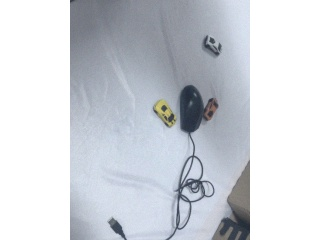mouse: (178, 86, 204, 133)
toy_car: (152, 98, 177, 128), (203, 34, 222, 55), (203, 98, 219, 121)
